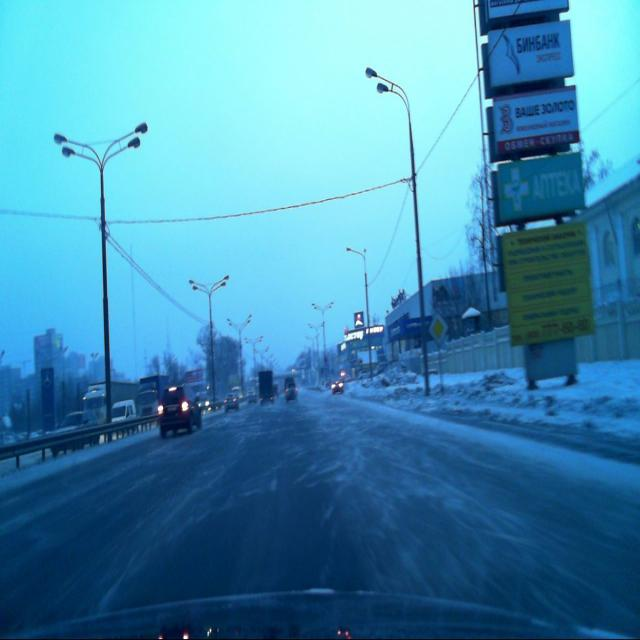road sign: (428, 312, 446, 346)
